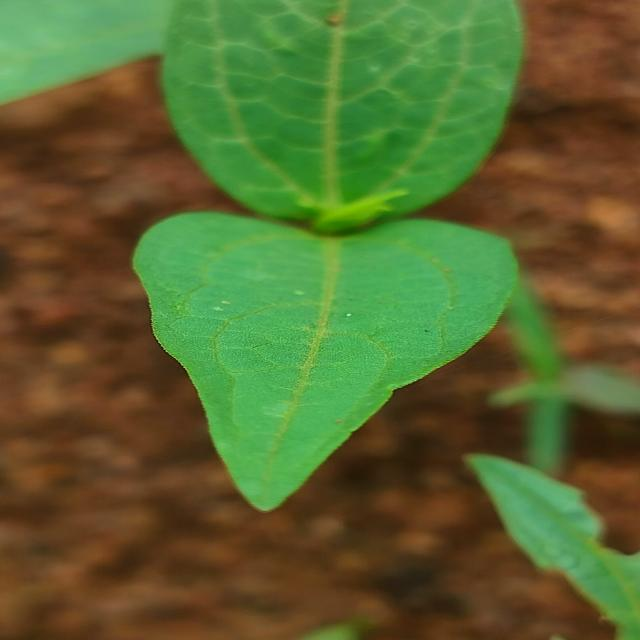Black gram_healthy: (137, 213, 526, 511), (166, 0, 524, 233)
